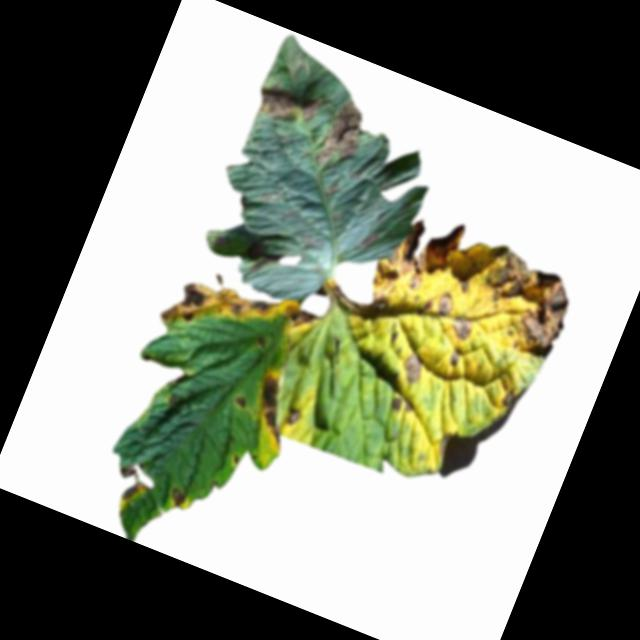Early_blight: (457, 240, 585, 365), (156, 260, 282, 363), (369, 197, 472, 314), (250, 74, 332, 139), (311, 94, 373, 176), (242, 370, 305, 449), (325, 278, 393, 328), (110, 461, 154, 509), (278, 300, 319, 339), (396, 349, 431, 388), (448, 312, 476, 341), (164, 483, 192, 511), (281, 403, 305, 429), (435, 291, 457, 316), (447, 347, 464, 372), (229, 393, 249, 414), (499, 387, 517, 407), (389, 394, 406, 414), (228, 452, 241, 469)
